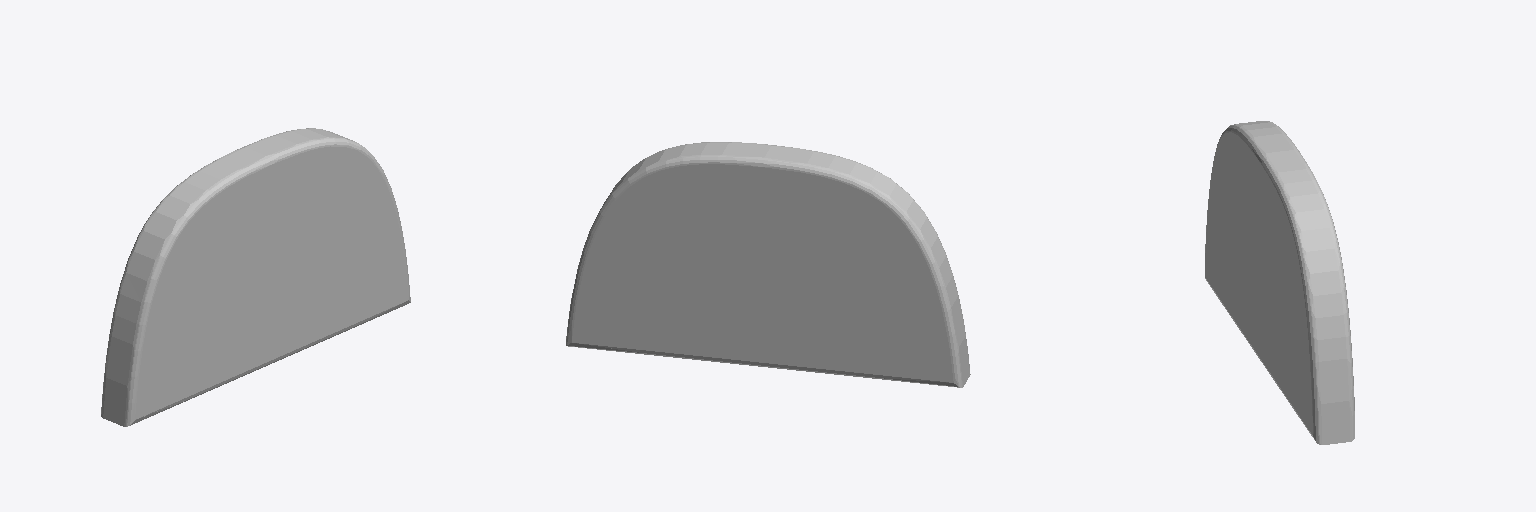
File: Shoulder-Right-Trigger.obj
The picture shows the model from 3 angles: view 1: azimuth 30°, elevation 25°; view 2: azimuth 150°, elevation 25°; view 3: azimuth 270°, elevation 25°; orthographic projection.
Visible parts, largest first — view 1: Shoulder-Right-Trigger; view 2: Shoulder-Right-Trigger; view 3: Shoulder-Right-Trigger.
Boxes of the visible parts, box(x1,y1,x2,y2) form: Shoulder-Right-Trigger: box(101, 128, 410, 426); Shoulder-Right-Trigger: box(566, 142, 970, 387); Shoulder-Right-Trigger: box(1205, 121, 1354, 444).
Size of the model in its own units: 27.5 by 15.75 by 10.3.